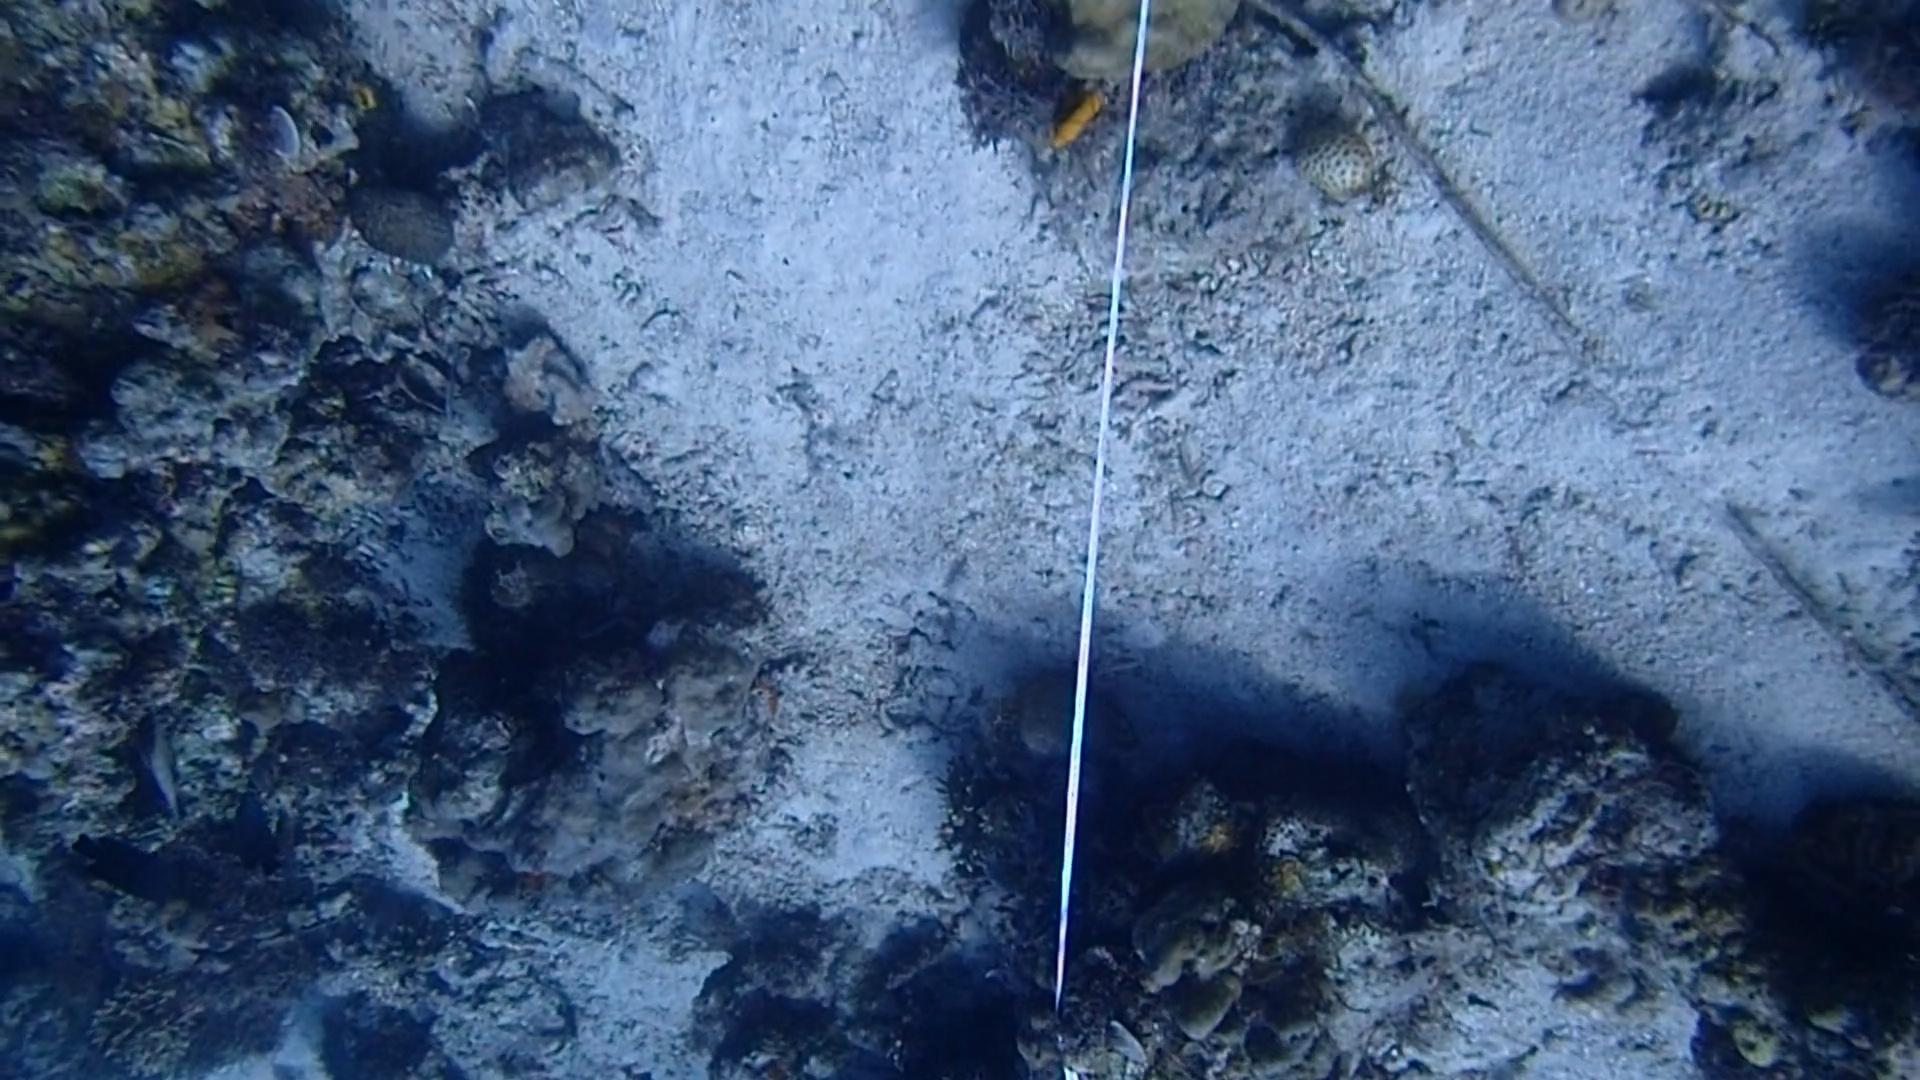Dark Fish: (63, 816, 206, 928), (222, 779, 290, 887)
